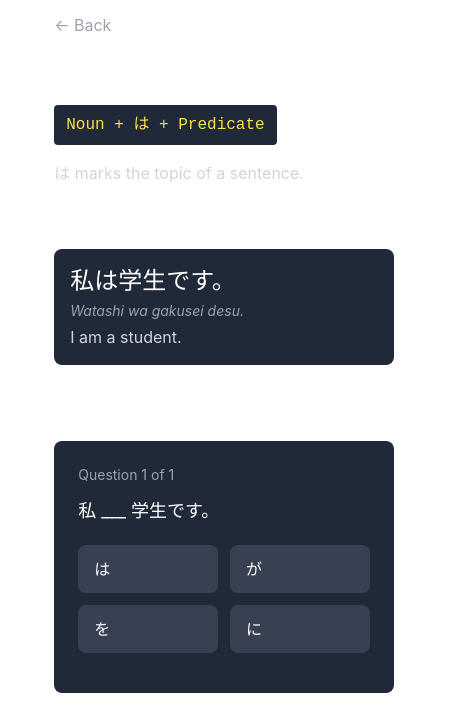
it: GrammarDetailPage › shows score summary after completing all exercises
Click the button "は" at (148, 569), box [78,545,218,593]
(page scrolled)
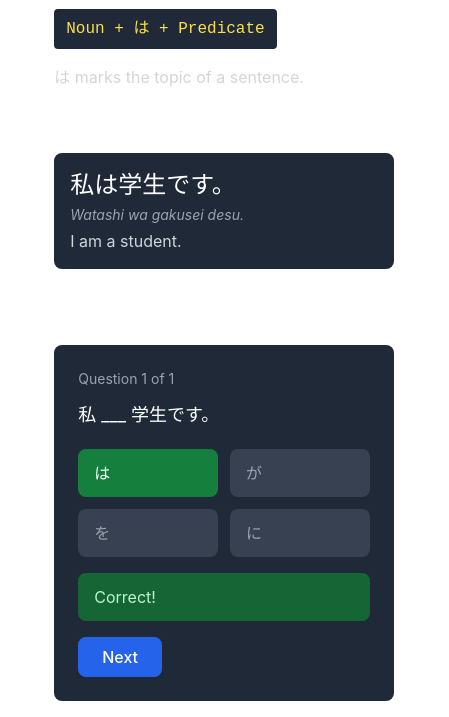
Expected: the text "Correct!" is shown, [78,573,370,621]
Click the button "Next" at (120, 657), box [78,637,162,677]
(page scrolled)
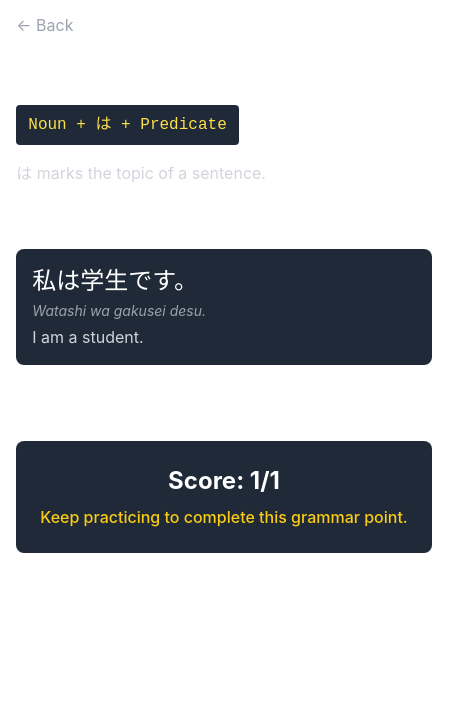
Expected: the text "Score: 1/1" is shown, [168,466,280,495]
